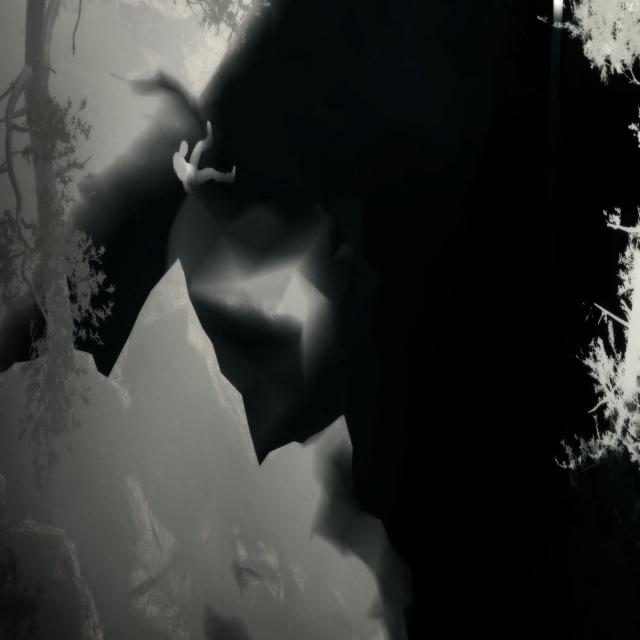Human: (171, 114, 240, 200)
